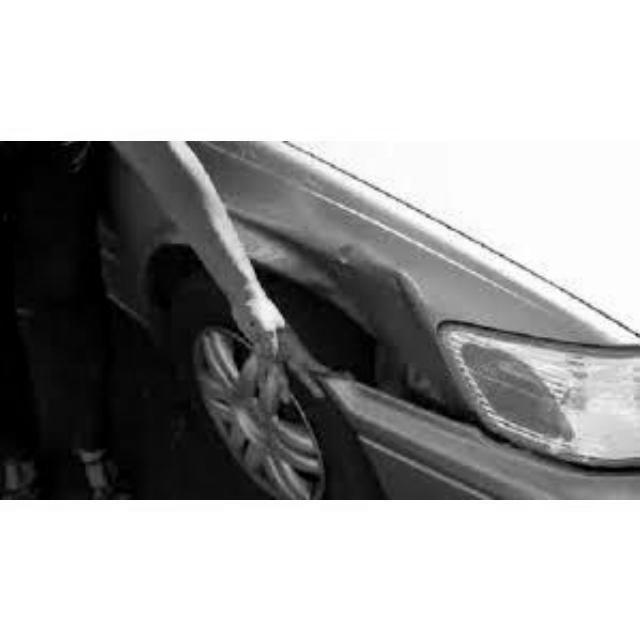fender-dent: (212, 159, 498, 407)
